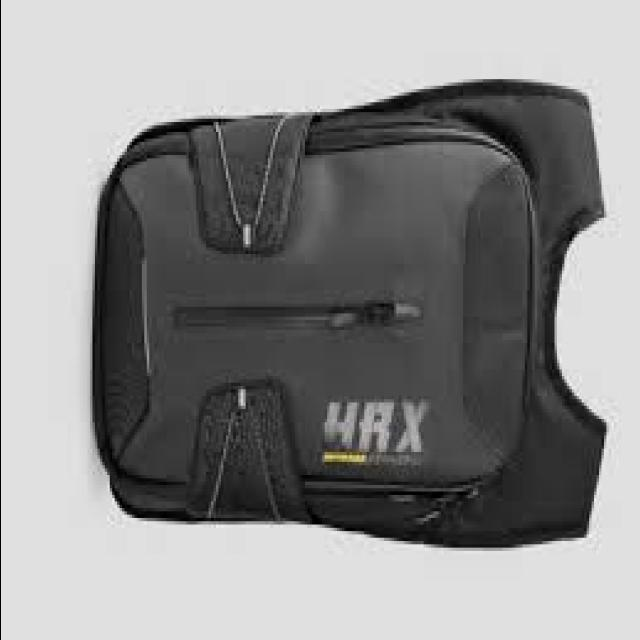backpack: (93, 77, 612, 552)
